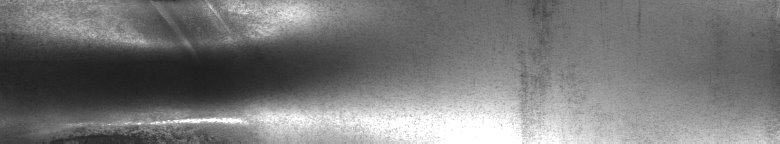ke: (67, 36, 247, 136)
